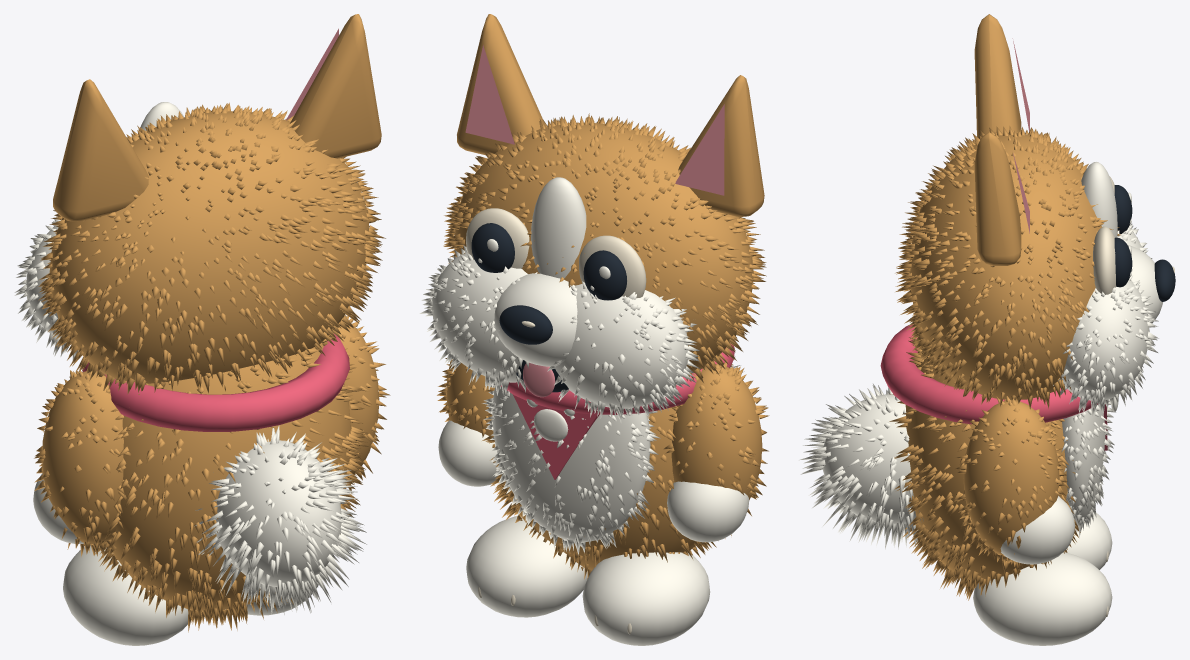
The model's file is corgi_plush.glb.
The picture shows the model from 3 angles, left to right: view 1: azimuth 30°, elevation 25°; view 2: azimuth 150°, elevation 25°; view 3: azimuth 270°, elevation 25°; orthographic projection. The views are drawn at different scales.
Parts seen in each view (by area): view 1: corgi_plush; view 2: corgi_plush; view 3: corgi_plush.
Boxes of the visible parts, left/top/right/bottom form: corgi_plush: left=14, top=14, right=390, bottom=645; corgi_plush: left=419, top=14, right=769, bottom=645; corgi_plush: left=799, top=14, right=1175, bottom=645.
Bounding box in the file's own units: 1.48 × 2.47 × 1.57.
